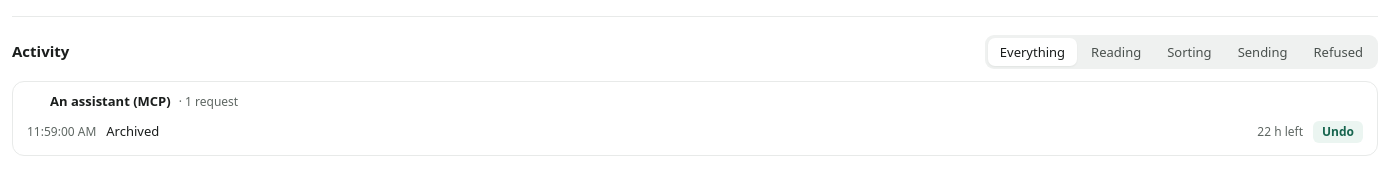
Test case: undoing from the row › says that nothing was set back, instead of Undone
Click the button "Undo": (1338, 132) [1313,121,1363,143]
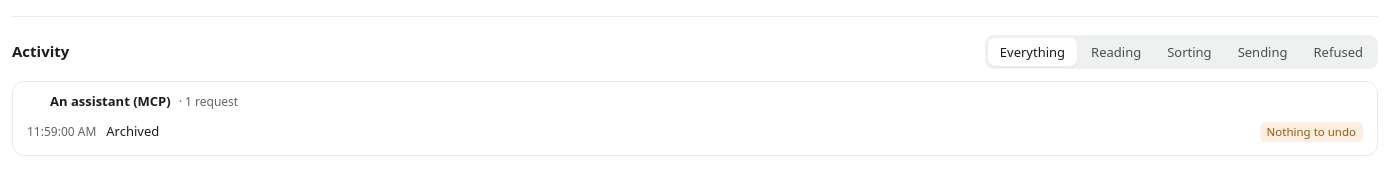
Now the text "Nothing to undo" is shown, box [1260,122,1363,142]
